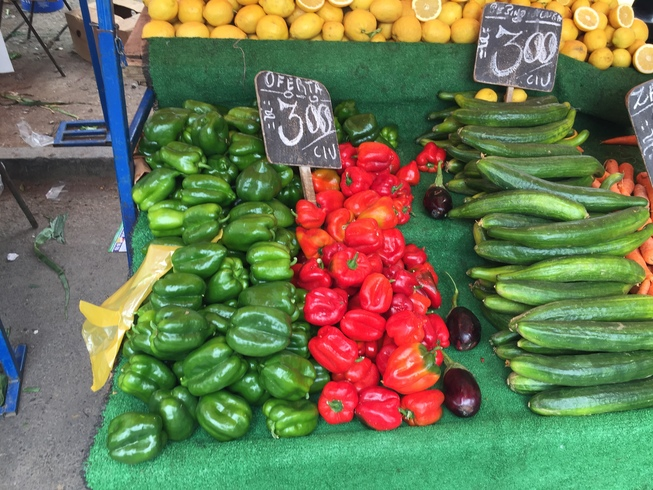precio: (245, 62, 351, 174), (456, 5, 571, 97), (615, 67, 653, 197)
